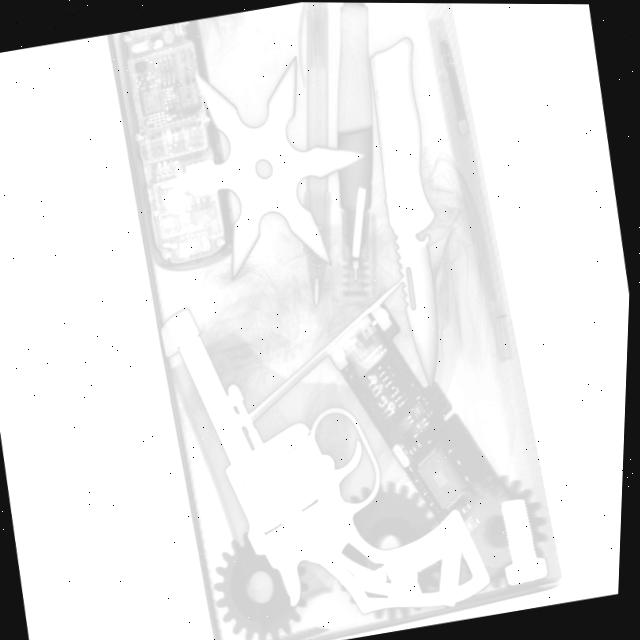knife: (348, 31, 475, 391)
pistol: (150, 260, 505, 640)
